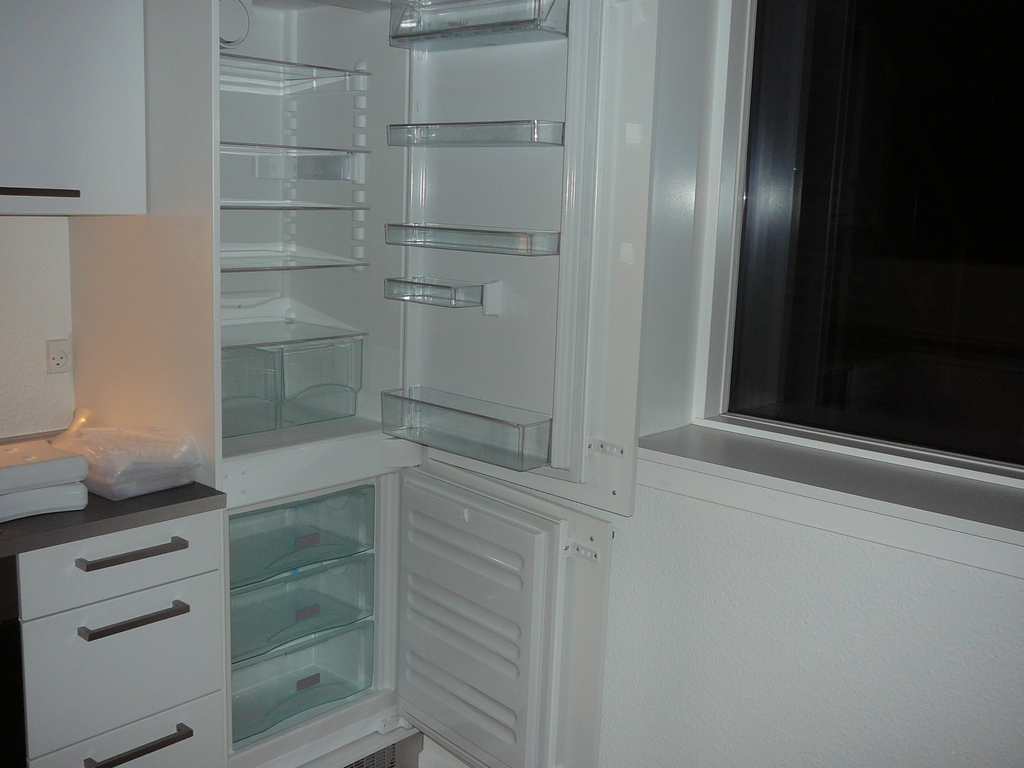cabinet door: (34, 606, 219, 701), (14, 532, 223, 583), (39, 713, 215, 763)
handle: (87, 719, 195, 768), (77, 603, 191, 642), (73, 542, 199, 573)
refrigerator door: (409, 11, 610, 463), (423, 501, 598, 762)
